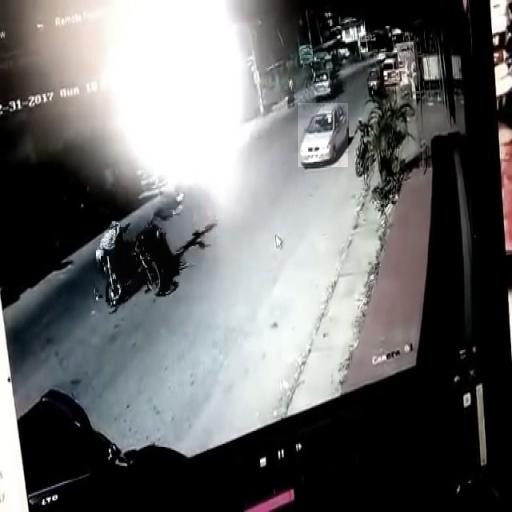小汽车: (298, 103, 348, 167)
自行车: (103, 226, 178, 300)
